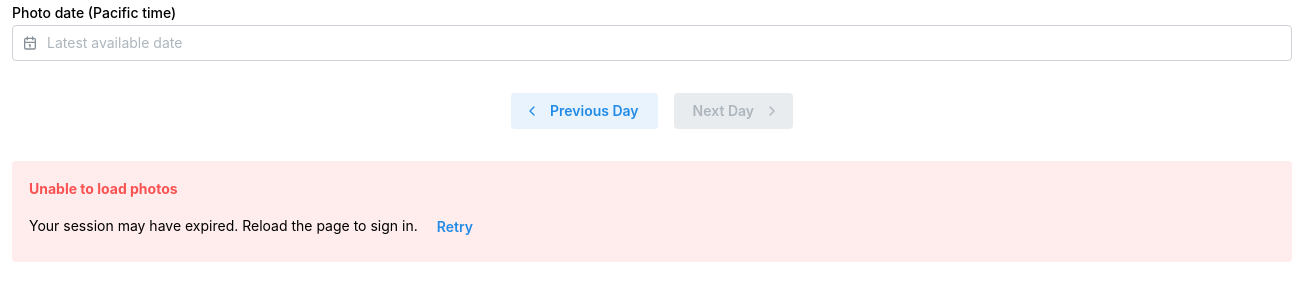
Test: Photo gallery › shows a session error and allows retry
expect the message is shown: met, box [12,161,1292,262]
expect the text "No photos available for this date." is not shown: met
Click the button "Retry".
click(455, 228)  # box [418,210,492,246]
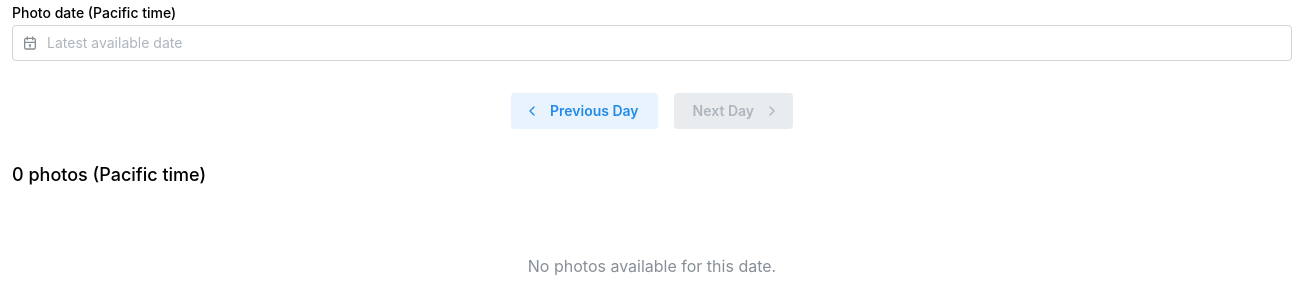
expect the text "No photos available for this date." is shown: met, box [528,256,776,276]
